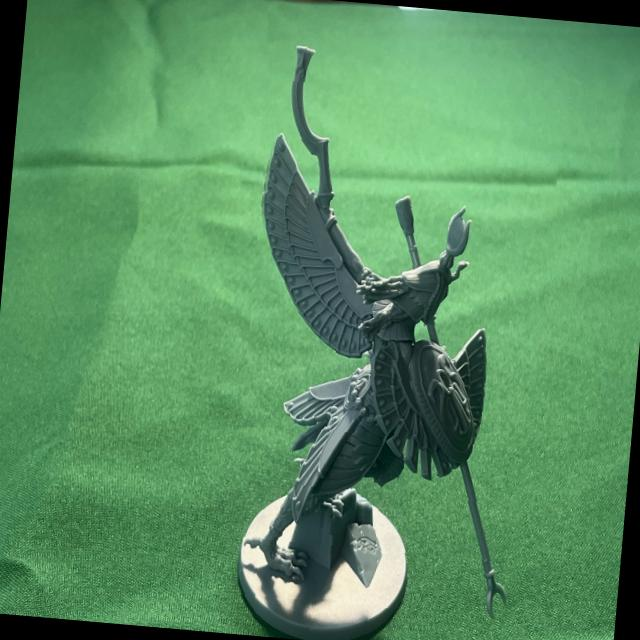isis: (219, 39, 565, 640)
